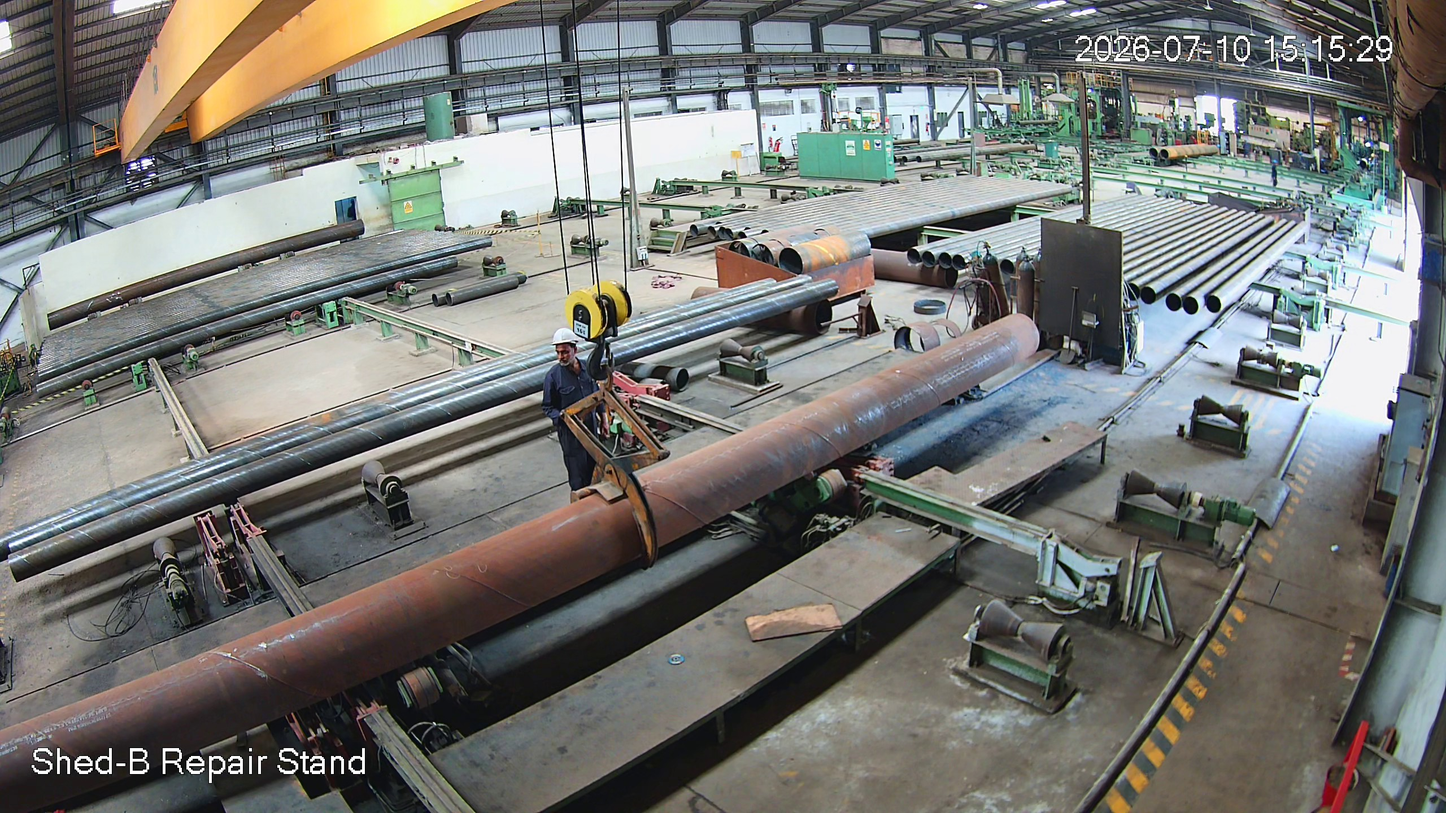Helmet: (546, 322, 586, 384)
Person: (537, 326, 610, 496)
